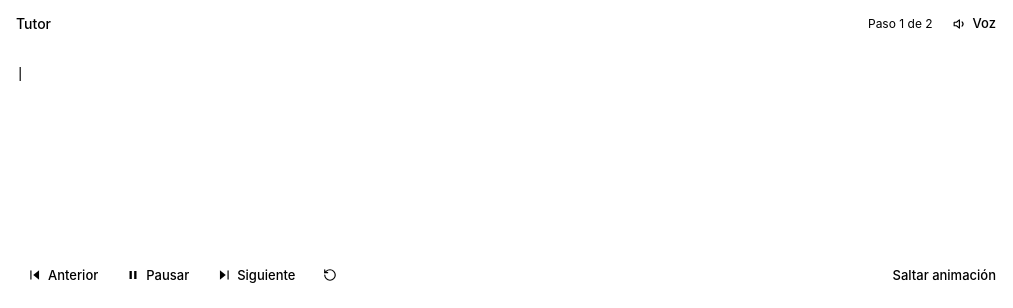
Test case: TutorVideo › botón siguiente avanza al paso 2
Click the button "Siguiente" at (256, 275), box [205,260,307,291]
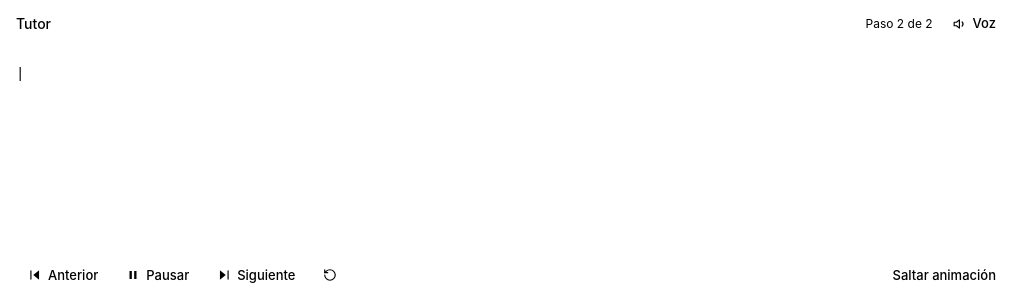
Now the text "Paso 2 de 2" is shown, box [866,16,932,32]
